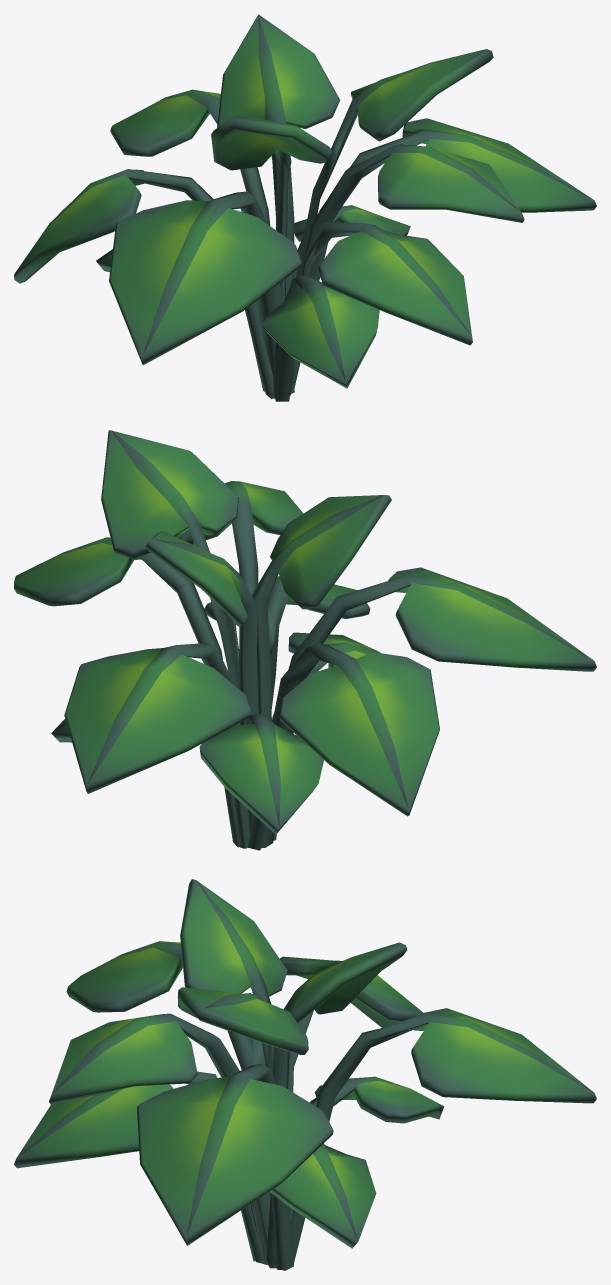
Rendered from Plants_042.fbx.
3 views of the same model, one above another, from view 1: azimuth 30°, elevation 25°; view 2: azimuth 150°, elevation 25°; view 3: azimuth 270°, elevation 25° (orthographic). The views are drawn at different scales.
Visible parts, largest first — view 1: Plants.042; view 2: Plants.042; view 3: Plants.042.
Boxes of the visible parts, <box> form: Plants.042: <box>14,14,596,401</box>; Plants.042: <box>14,430,596,850</box>; Plants.042: <box>14,879,596,1270</box>.
Bounding box in the file's own units: 1107 × 687 × 1058.
